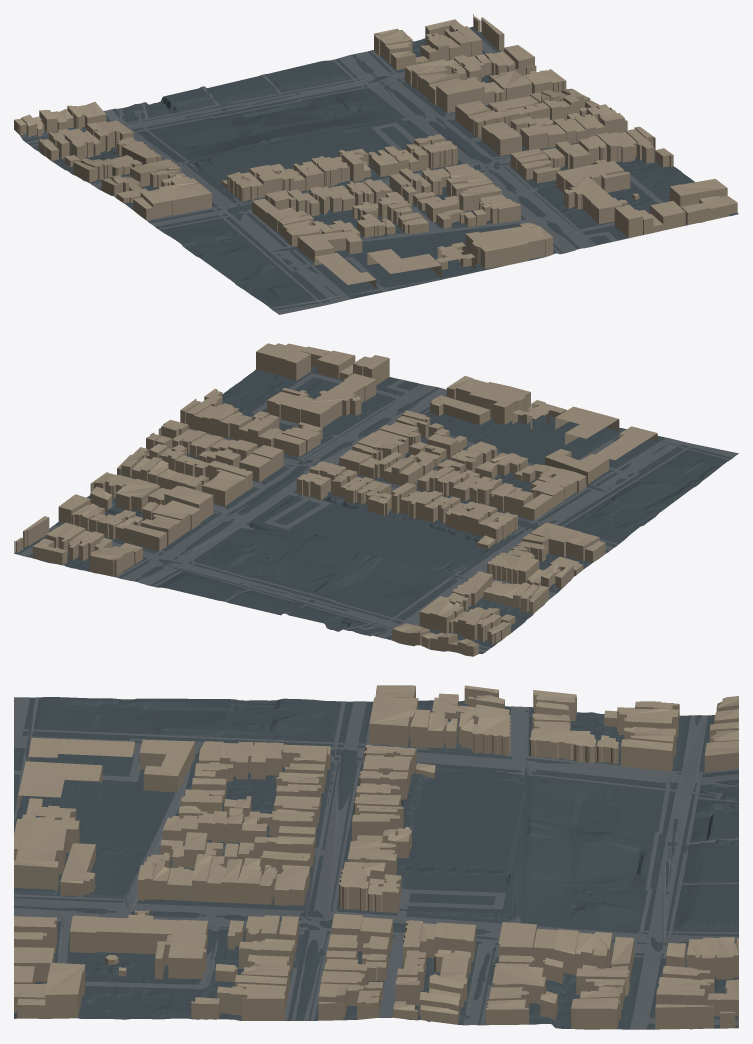
The model's file is epsg26910-1433-10884.lod0.glb.
The picture shows the model from 3 angles, top to bottom: view 1: azimuth 30°, elevation 25°; view 2: azimuth 150°, elevation 25°; view 3: azimuth 270°, elevation 25°; orthographic projection. The views are drawn at different scales.
Visible parts, largest first — view 1: epsg26910-1433-10884-lod0; view 2: epsg26910-1433-10884-lod0; view 3: epsg26910-1433-10884-lod0.
Boxes of the visible parts, x1,y1,x2,y2 form: epsg26910-1433-10884-lod0: (14,14,738,314); epsg26910-1433-10884-lod0: (14,343,738,656); epsg26910-1433-10884-lod0: (14,685,738,1029).
Bounding box in the file's own units: 384 × 26.51 × 384.
